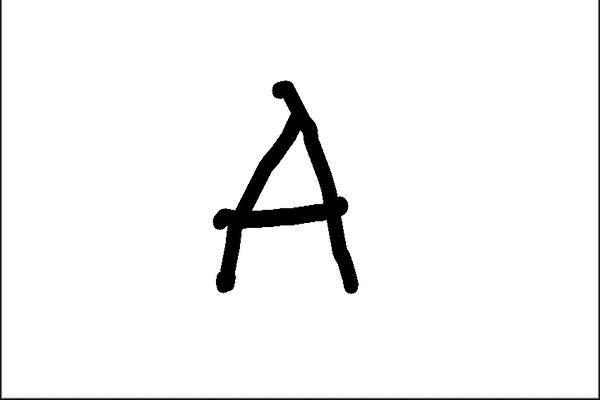A: (193, 71, 369, 298)
